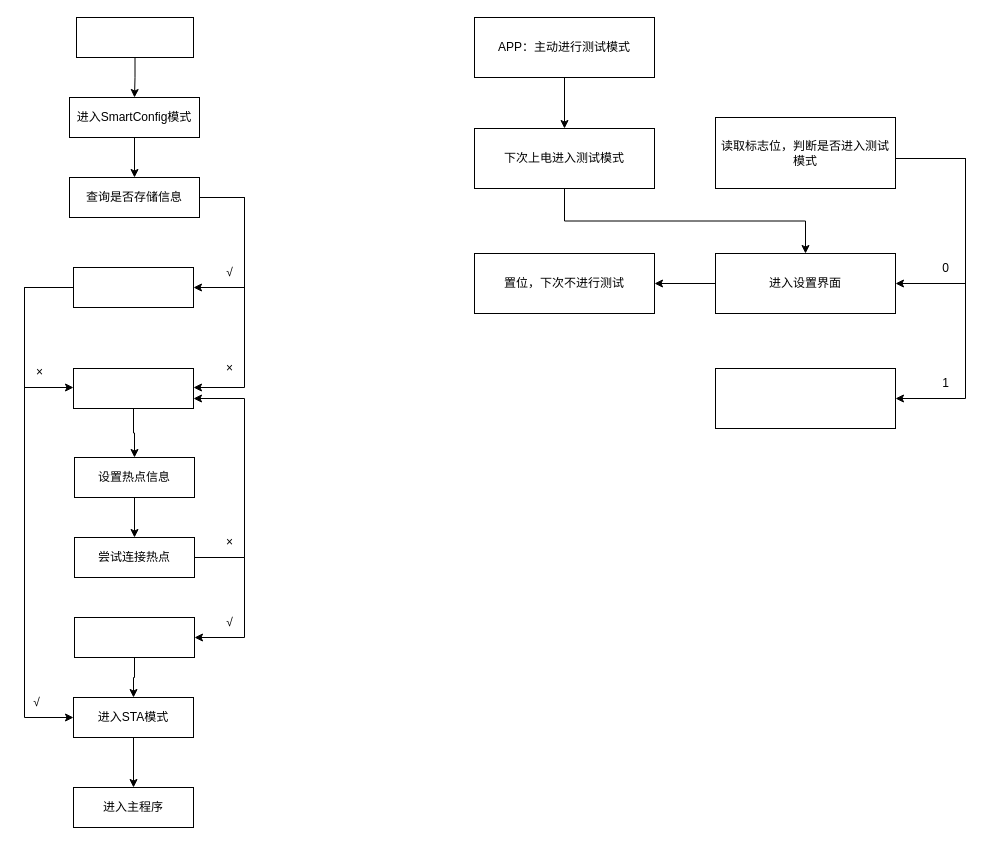
The diagram is 991 pixels wide and 845 high, and some of its shapes have lost their labels. The shapes that lost their labels are listed below. From the top down, each one's centre as x and y in pixels, then its label:
At pixel 135 37: "系统上电".
At pixel 133 287: "尝试连接热点x3".
At pixel 133 388: "AP模式待被连接".
At pixel 805 398: "直接进入界面（GIF动画）".
At pixel 134 637: "保存参数到存储".
